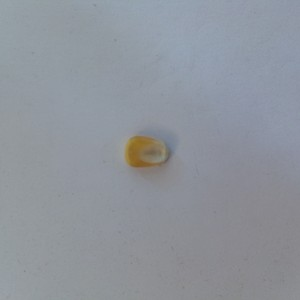maiz: (123, 132, 171, 172)
